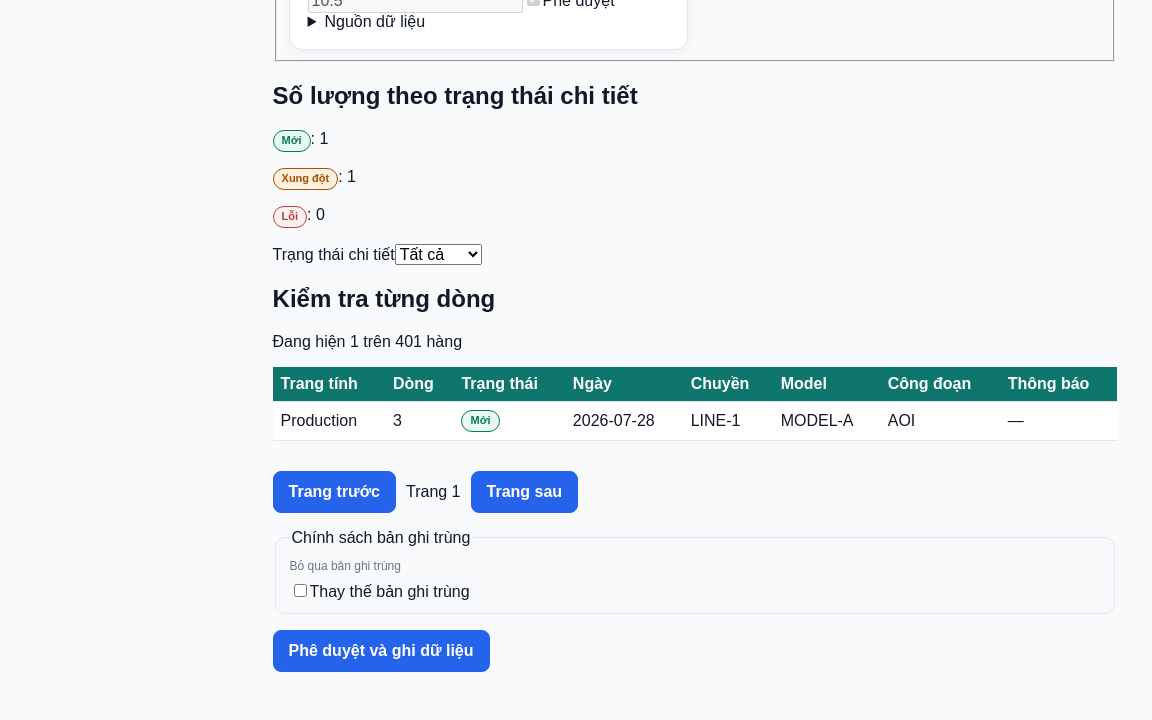
Scenario: UploadPage › localizes the complete legacy approval flow in vi
The width and height of the screenshot is (1152, 720).
Earlier steps of the test are not shown.
(page scrolled)
expect the heading "Nguồn dữ liệu" is shown: met, box x1=324 y1=13 x2=425 y2=30
expect the text "Chính sách bản ghi trùng" is shown: met, box x1=290 y1=528 x2=472 y2=546
Click the checkbox labelled "Thay thế bản ghi trùng" at (300, 590), box x1=294 y1=584 x2=306 y2=596
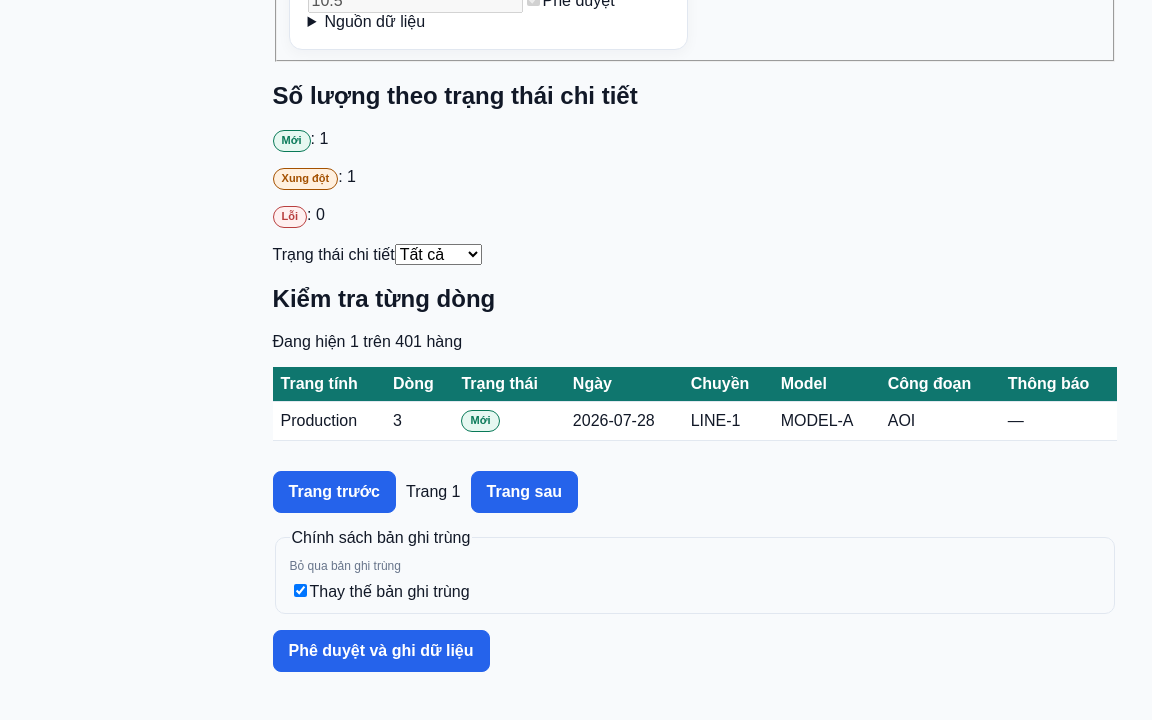
Click the button "Phê duyệt và ghi dữ liệu" at (381, 650), box x1=272 y1=630 x2=490 y2=672
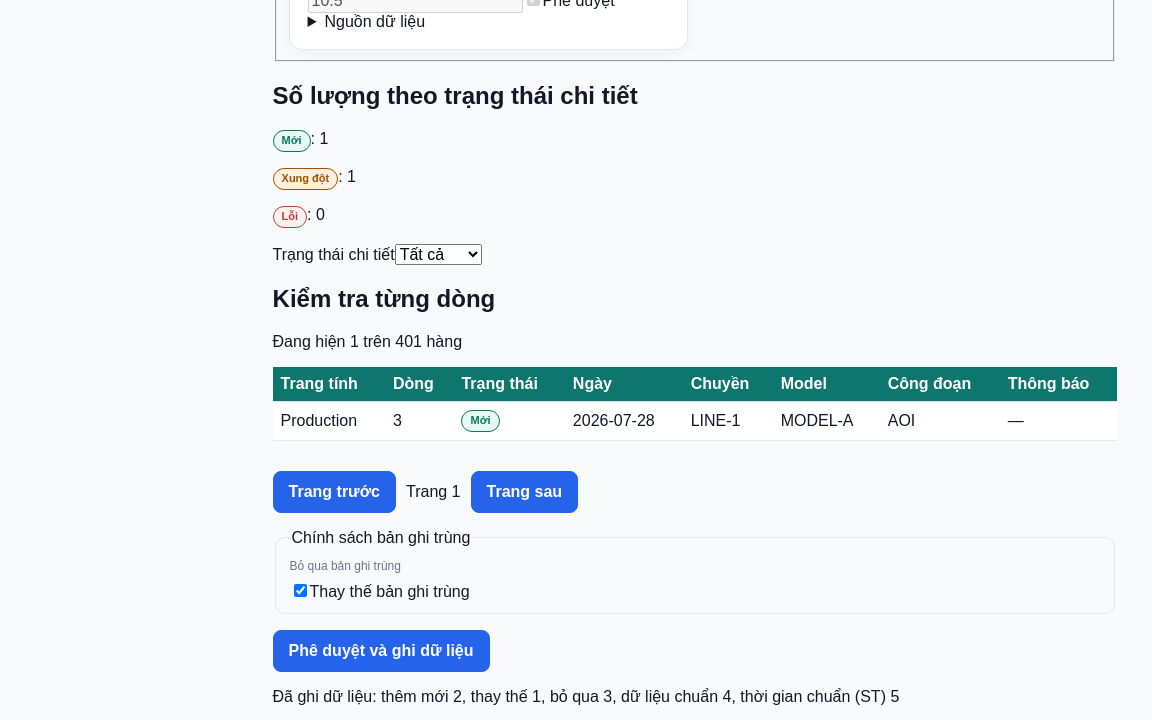
expect the text "Đã ghi dữ liệu: thêm mới 2, thay thế 1, bỏ qua 3, dữ liệu chuẩn 4, thời gian chuẩn (ST) 5" is shown: met, box x1=272 y1=688 x2=899 y2=704
